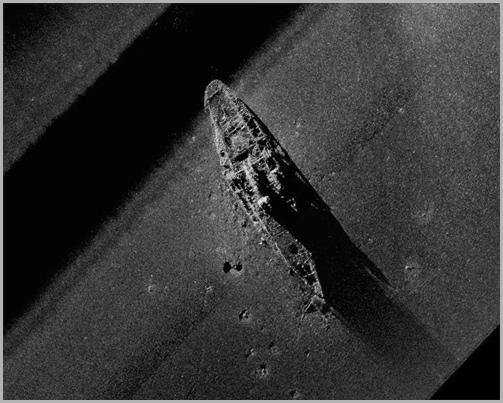ship: (202, 78, 329, 306)
